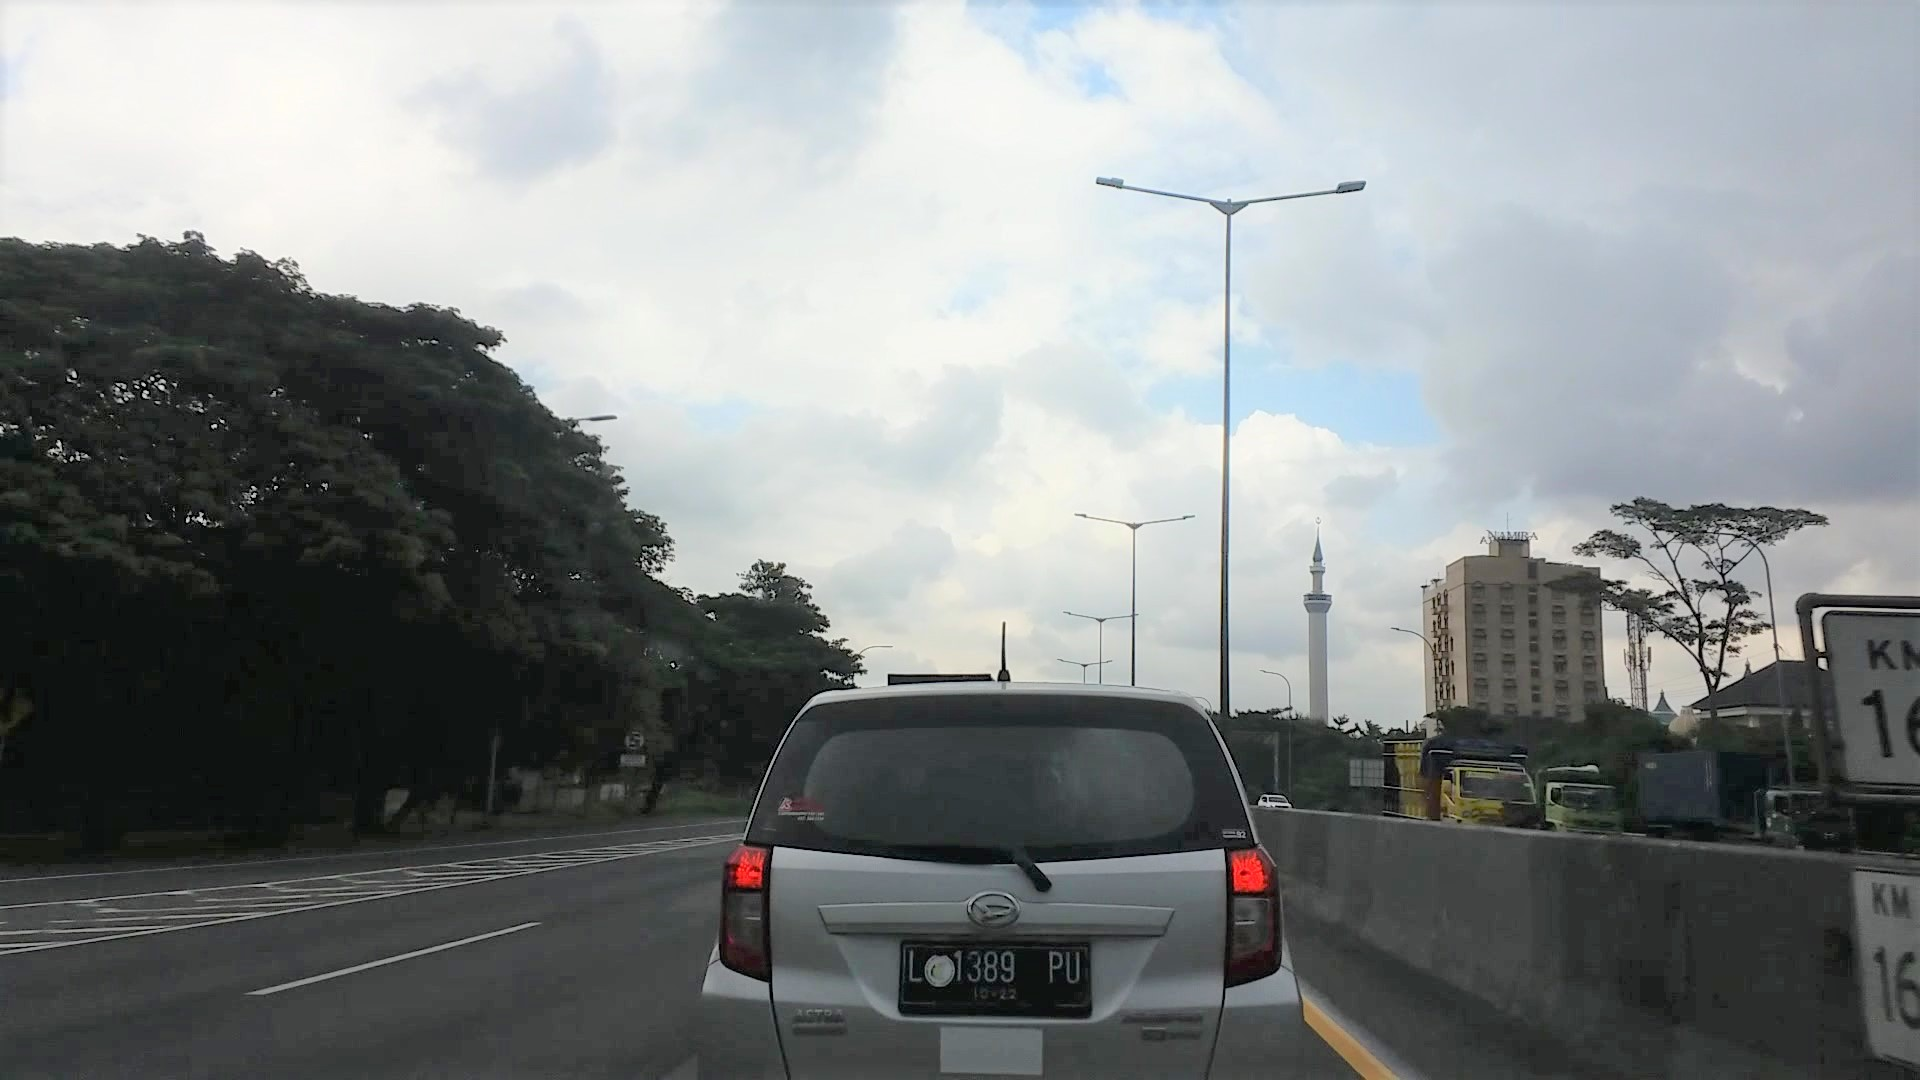plate_positive: (898, 936, 1093, 1018)
